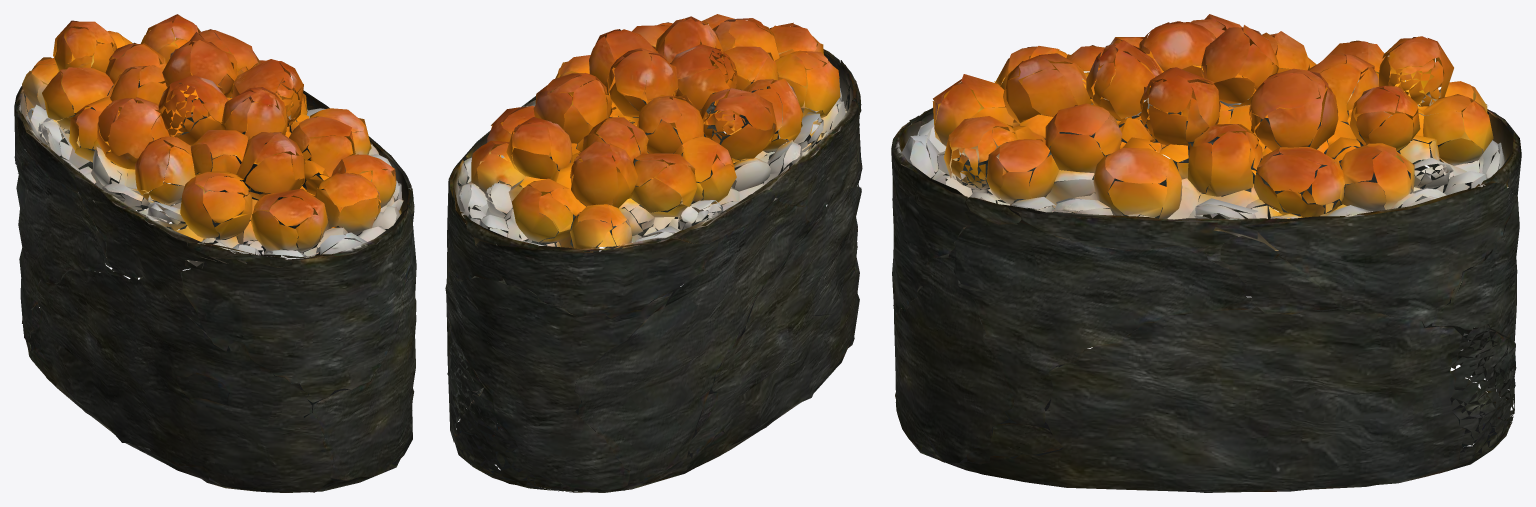
Rendered from ikura.glb.
3 views of the same model, side by side, from view 1: azimuth 30°, elevation 25°; view 2: azimuth 150°, elevation 25°; view 3: azimuth 270°, elevation 25° (orthographic). The views are drawn at different scales.
Parts seen in each view (by area): view 1: ikura; view 2: ikura; view 3: ikura.
Part boxes in pixels (box(x1,y1,x2,y2)): ikura: box(14, 14, 416, 492); ikura: box(445, 14, 862, 492); ikura: box(891, 14, 1521, 492).
Size of the model in its own units: 0.5598 by 0.6897 by 1.
1 material, 1 textured.
